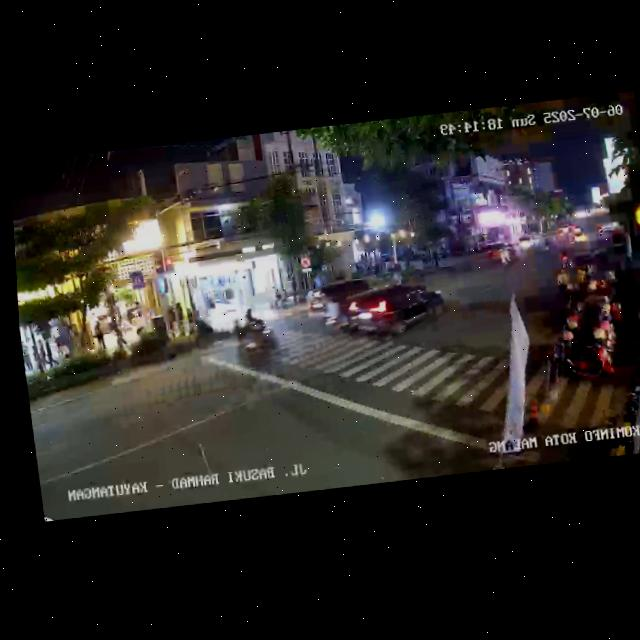car: (344, 279, 448, 343), (303, 278, 377, 321), (596, 220, 630, 250), (564, 224, 588, 245)
motorcycle: (230, 305, 279, 357), (319, 293, 364, 341), (497, 243, 519, 270)
person: (555, 268, 576, 309), (92, 317, 107, 352), (113, 318, 127, 350), (58, 334, 73, 361), (132, 309, 145, 340), (45, 341, 57, 369), (21, 339, 31, 370), (39, 344, 49, 370), (430, 248, 441, 269)
